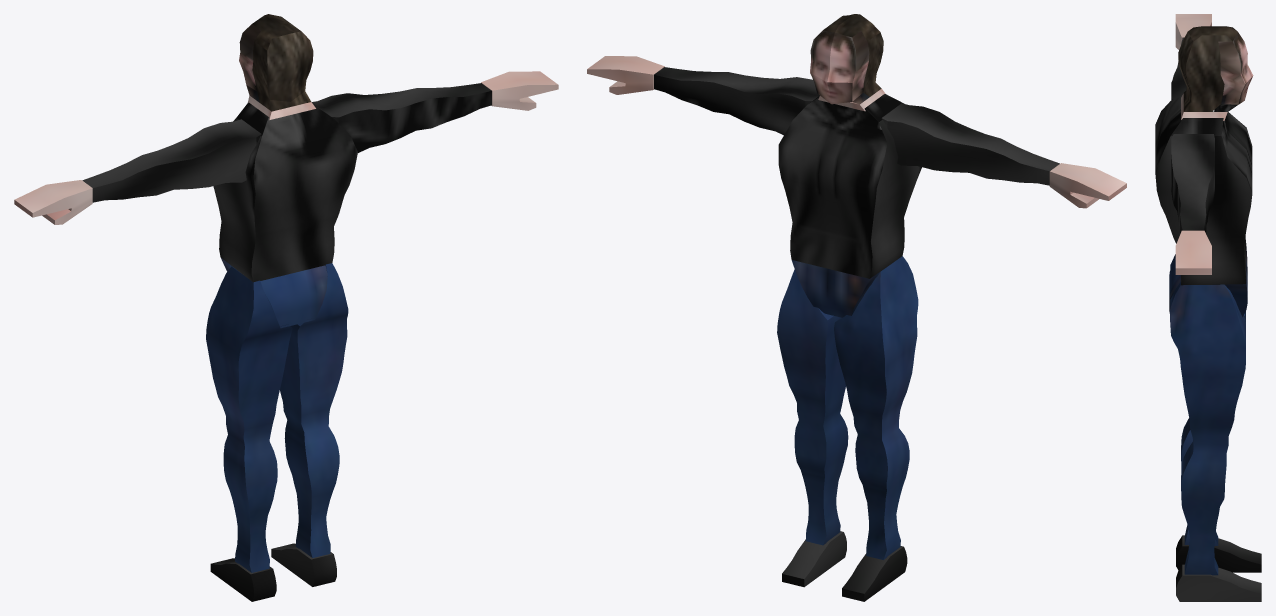
File: Owner.fbx
3 views of the same model, side by side, from view 1: azimuth 30°, elevation 25°; view 2: azimuth 150°, elevation 25°; view 3: azimuth 270°, elevation 25° (orthographic).
Parts seen in each view (by area): view 1: Legs, Torso, Arms, Head, Hands, Cube; view 2: Legs, Torso, Arms, Head, Hands, Cube; view 3: Legs, Torso, Head, Arms, Cube, Hands.
Part boxes in pixels (bbox=[...]): Legs: bbox=[206, 263, 348, 572]; Torso: bbox=[213, 102, 357, 328]; Arms: bbox=[82, 83, 491, 202]; Head: bbox=[239, 14, 315, 119]; Hands: bbox=[14, 71, 558, 224]; Cube: bbox=[210, 543, 336, 601]; Legs: bbox=[777, 256, 918, 559]; Torso: bbox=[778, 94, 921, 317]; Arms: bbox=[654, 67, 1059, 185]; Head: bbox=[810, 14, 885, 111]; Hands: bbox=[587, 56, 1126, 208]; Cube: bbox=[782, 531, 907, 601]; Legs: bbox=[1170, 254, 1245, 575]; Torso: bbox=[1155, 96, 1252, 317]; Head: bbox=[1178, 26, 1253, 120]; Arms: bbox=[1171, 37, 1214, 234]; Cube: bbox=[1176, 535, 1261, 601]; Hands: bbox=[1175, 14, 1211, 274].
Size of the model in its own units: 214 by 37.69 by 218.
Materials: 1 (1 with a texture image).
